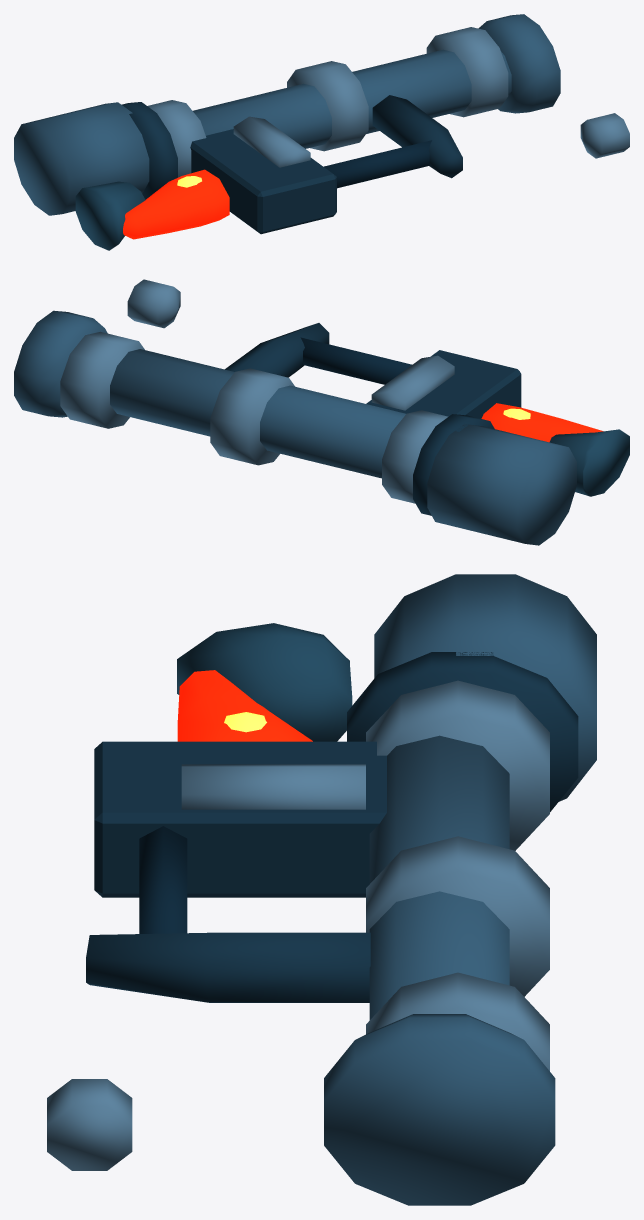
The model's file is newshc-239.glb.
3 views of the same model, one above another, from view 1: azimuth 30°, elevation 25°; view 2: azimuth 150°, elevation 25°; view 3: azimuth 270°, elevation 25° (orthographic). The views are drawn at different scales.
Visible parts, largest first — view 1: newshc-239; view 2: newshc-239; view 3: newshc-239.
Boxes of the visible parts, box(x1,y1,x2,y2) form: newshc-239: box(14, 14, 629, 250); newshc-239: box(14, 279, 629, 545); newshc-239: box(47, 574, 596, 1205).
Size of the model in its own units: 2 by 0.3284 by 0.9949.
